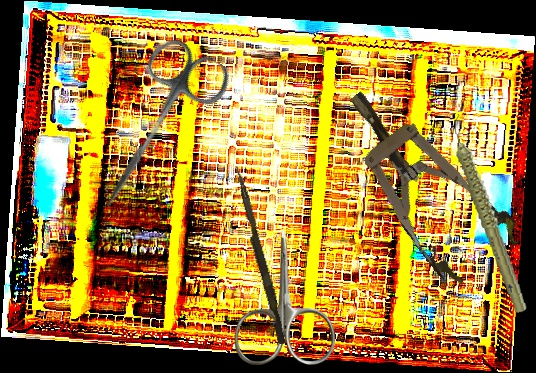Handpiece: (449, 108, 530, 319)
Iris Scissors: (73, 31, 237, 229), (234, 229, 335, 365)
Pusher: (228, 165, 291, 345)
Speculum: (319, 65, 527, 294)
